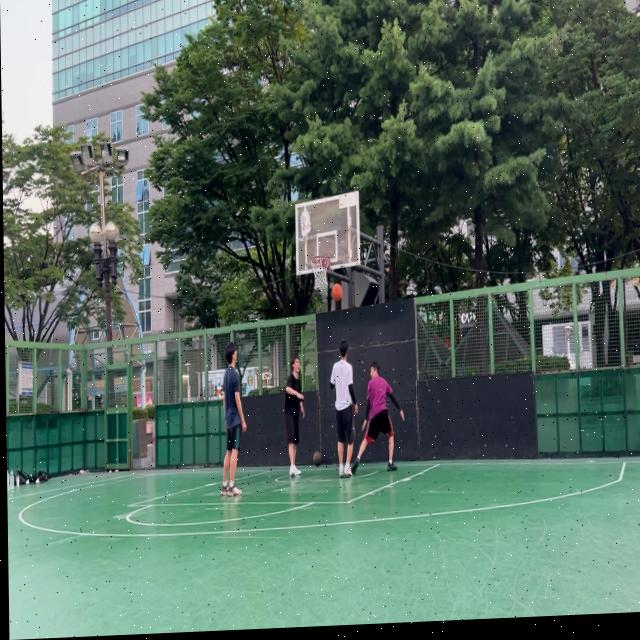basketball: (332, 283, 342, 303), (313, 450, 322, 467)
hoop: (310, 254, 331, 292)
